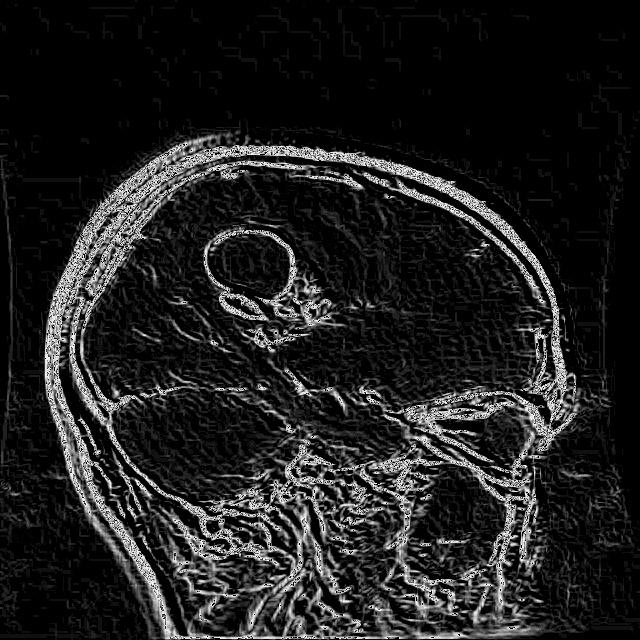Brain-Tumor: (198, 209, 342, 346)
eye: (413, 374, 556, 490)
